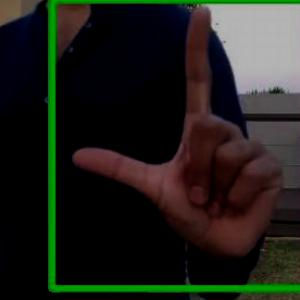land_hand: (61, 0, 291, 269)
